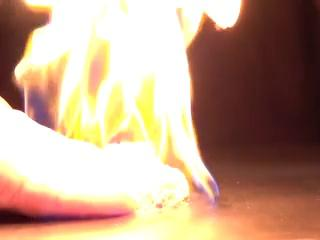Fire: (14, 1, 224, 211)
